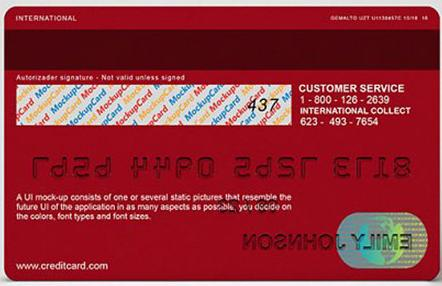payment_card: (4, 7, 440, 284)
